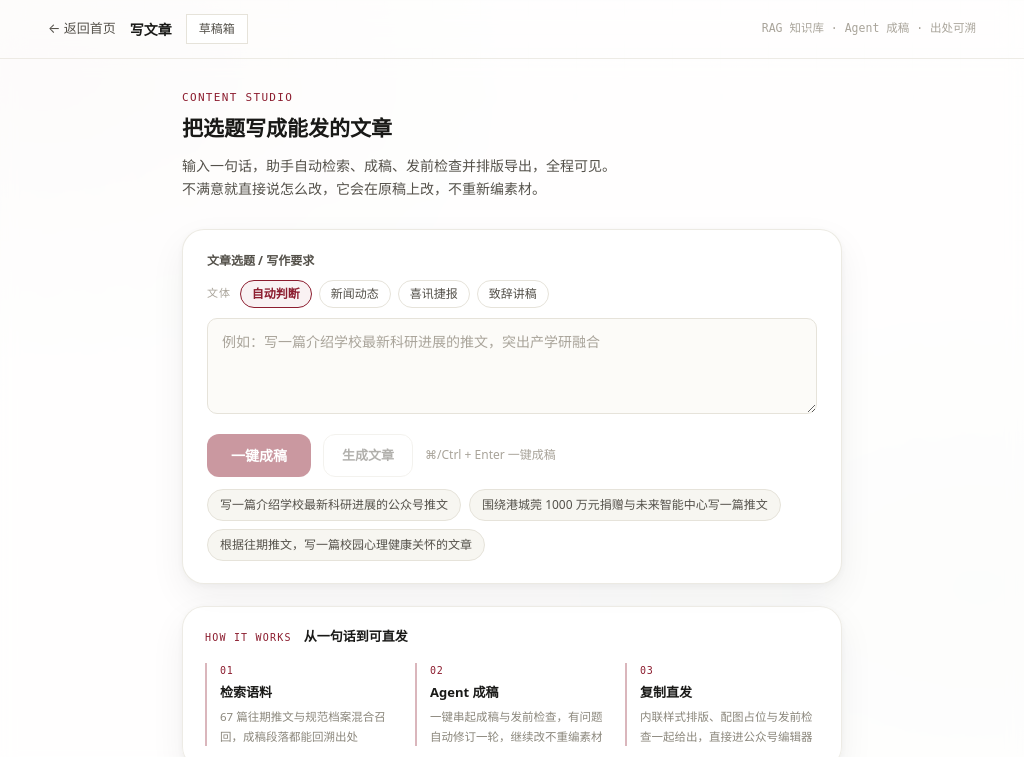
Test case: 写文章页 — 文体模板 › 选喜讯捷报后按该文体请求，并沿用同一文体改稿
Step 1. Click the button "喜讯捷报" → (434, 294), box [398, 280, 470, 308]
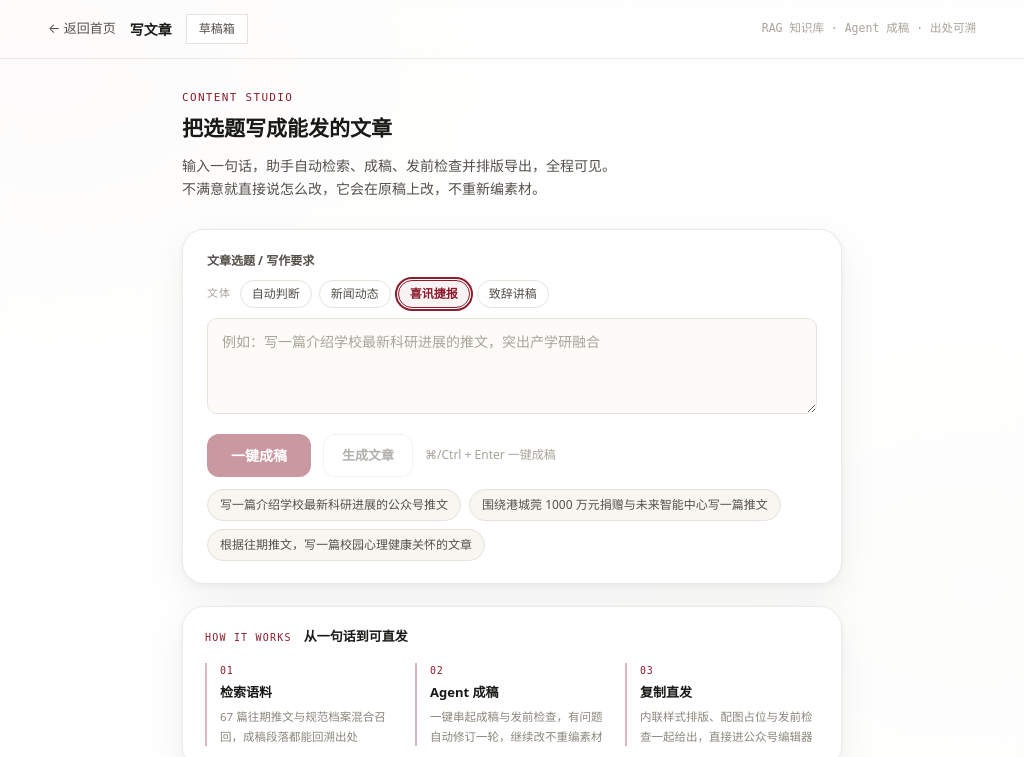
Step 2. Type "写一篇学者入选榜单的推文" into the text box named "文章选题输入框" → (512, 366), box [207, 318, 817, 414]
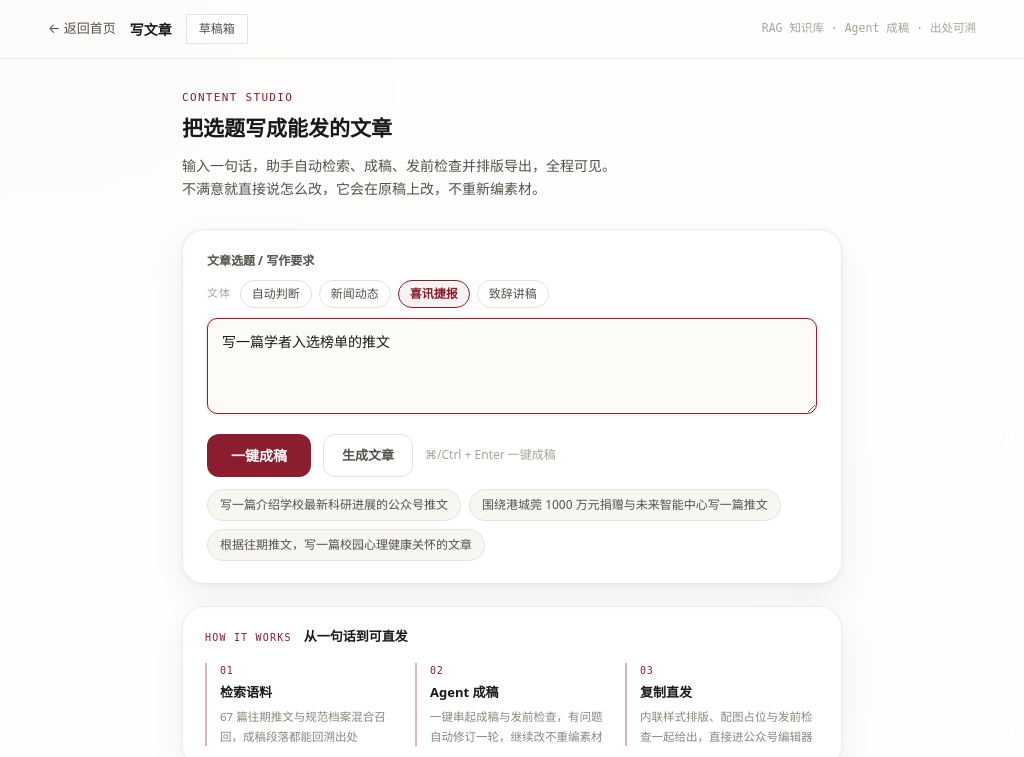
Step 3. Click the button "生成文章" → (368, 455), box [323, 434, 413, 477]
(page scrolled)
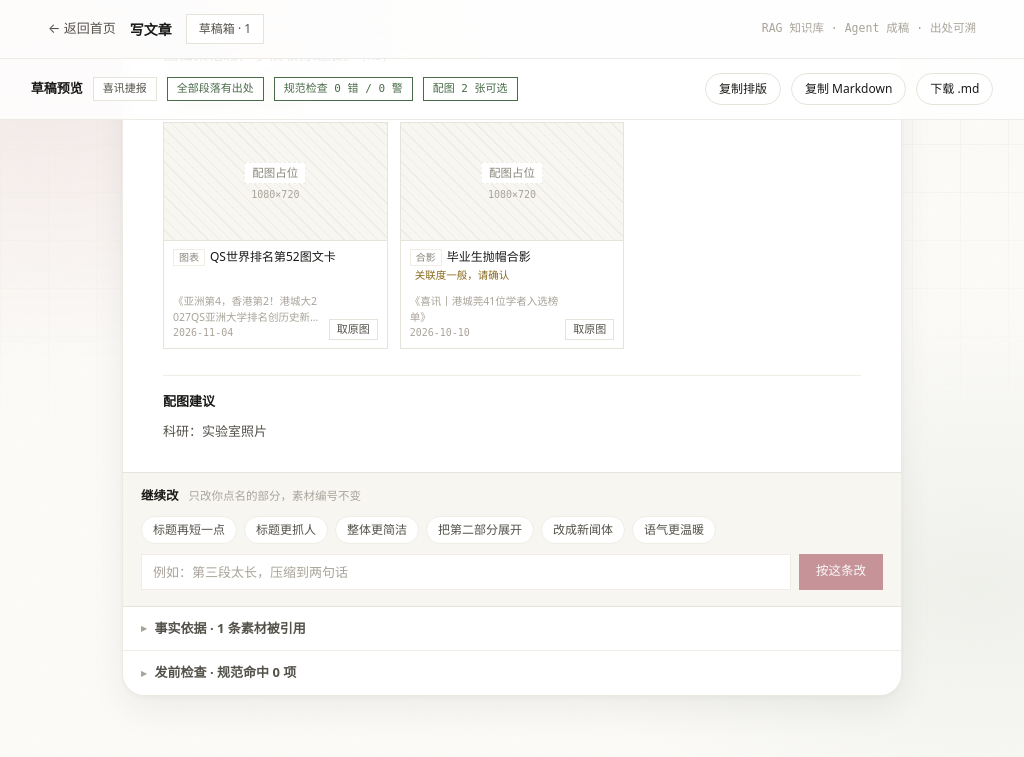
Step 4. Click the button "标题再短一点" → (189, 530), box [141, 516, 237, 544]
(page scrolled)
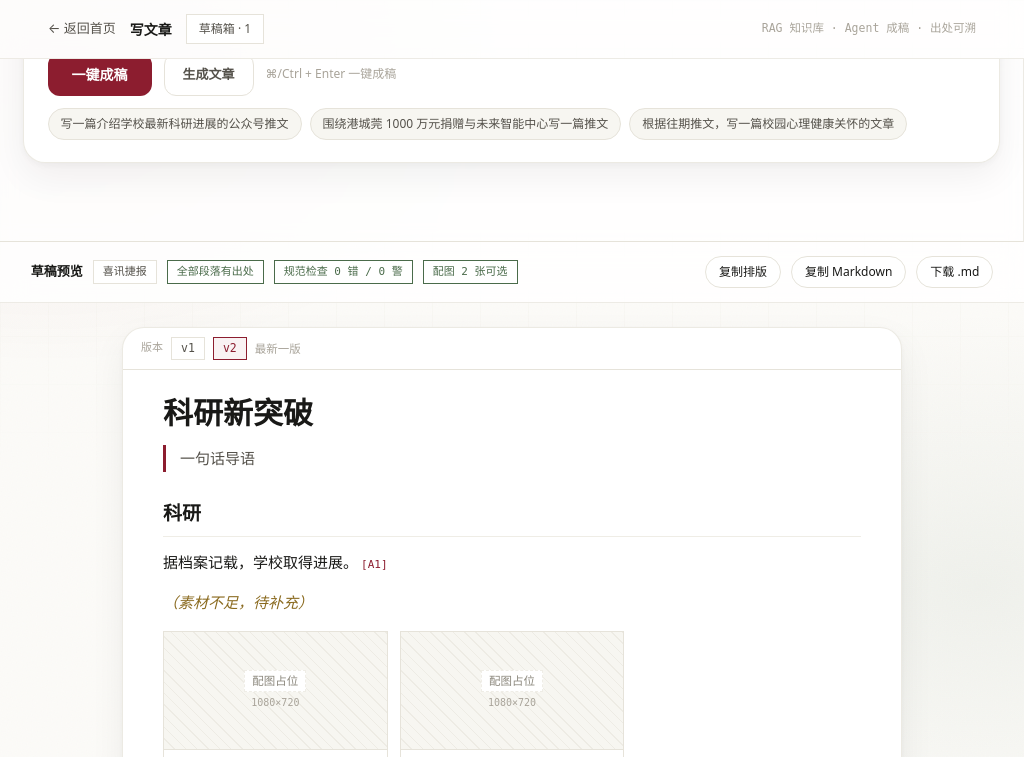
Check: the heading "科研新突破" is shown, box [163, 397, 313, 430]
